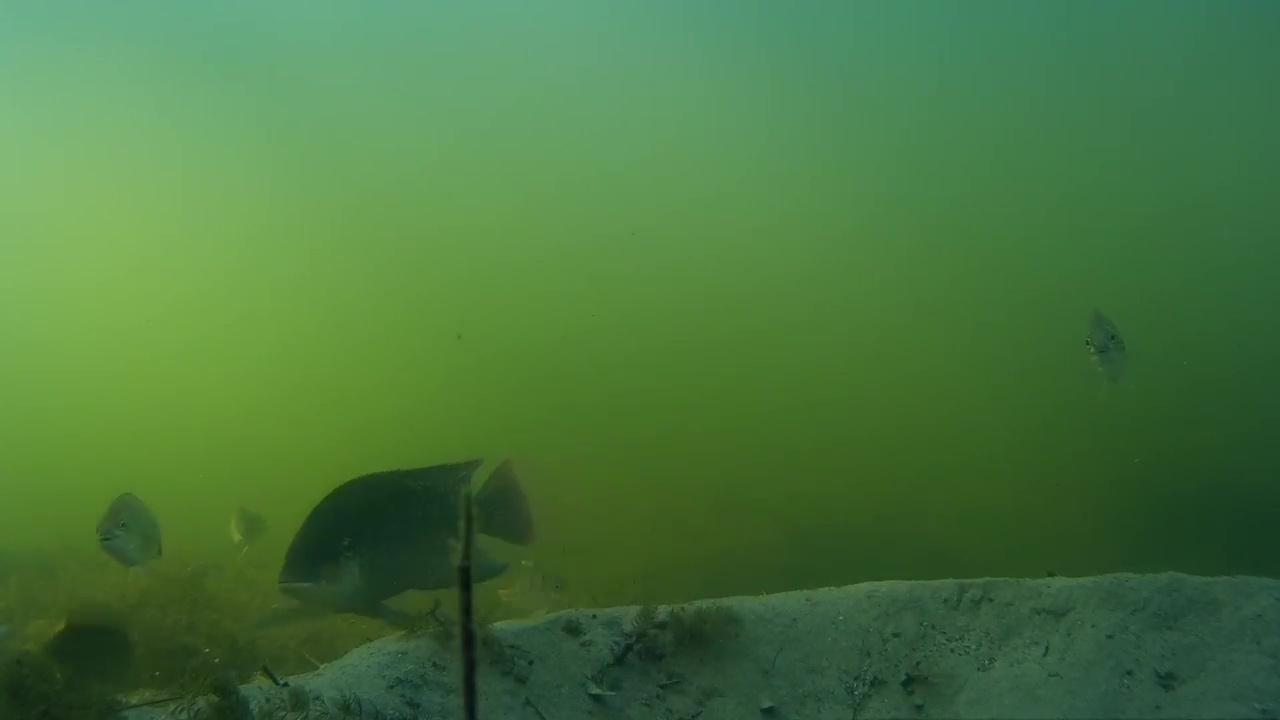Tilapia: (286, 452, 567, 602), (87, 486, 171, 572), (211, 494, 271, 554)
